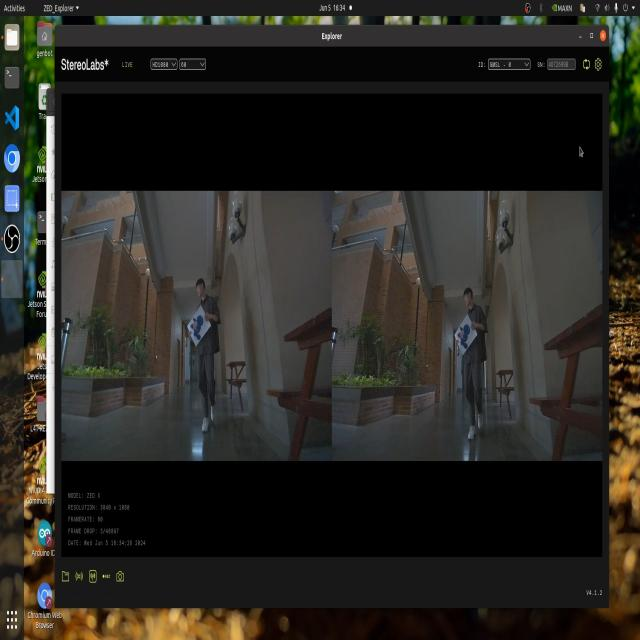blue: (453, 320, 471, 353), (191, 311, 203, 344)
